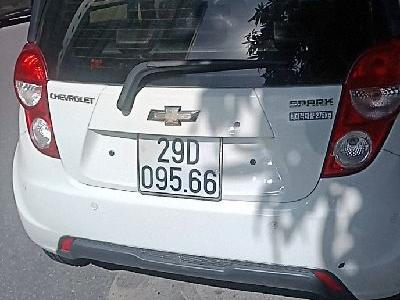car: (136, 133, 222, 201)
